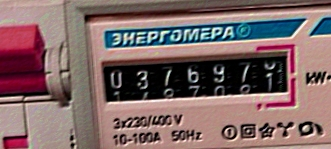0: (107, 68, 125, 90)
1: (264, 71, 276, 93)
3: (135, 68, 150, 92)
6: (186, 62, 201, 84)
7: (160, 63, 175, 88), (237, 60, 252, 84)
9: (211, 62, 226, 85)
screen: (94, 42, 302, 124)
